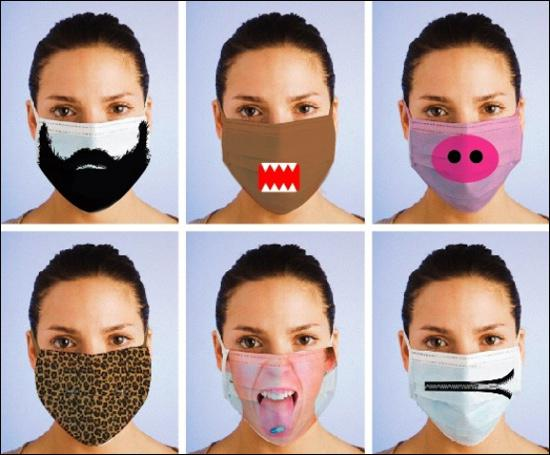OK: (404, 308, 528, 432), (28, 310, 152, 434), (218, 74, 337, 201), (221, 306, 339, 434), (33, 82, 150, 210), (406, 76, 526, 196)
